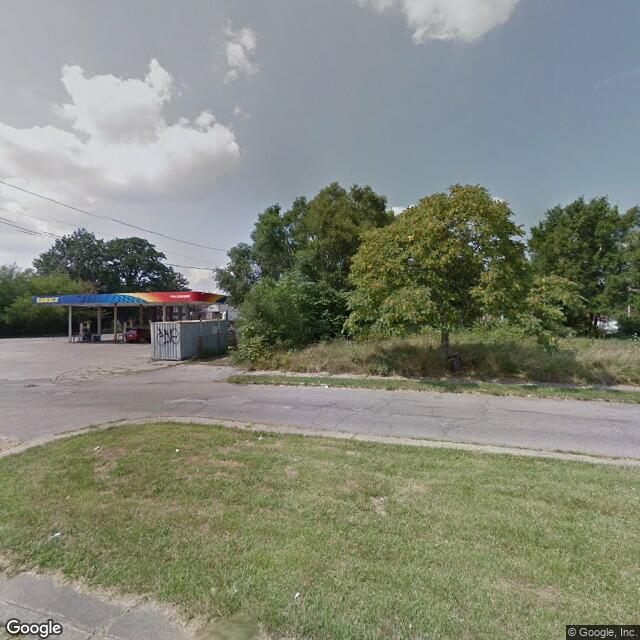litter: (46, 531, 63, 541), (289, 588, 306, 598), (88, 443, 99, 453), (317, 383, 335, 389), (279, 381, 292, 388), (176, 446, 185, 452)
